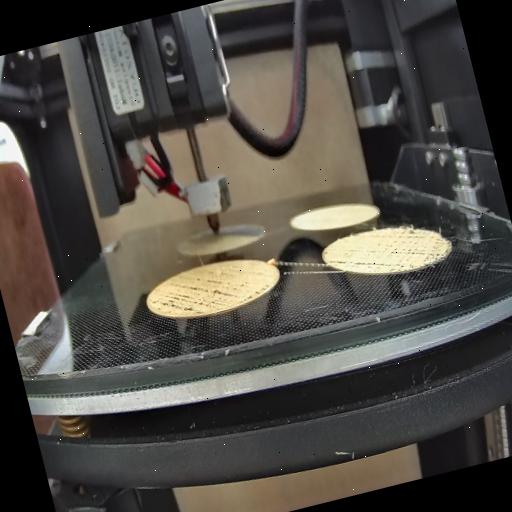under_extrusion: (143, 258, 272, 325), (347, 215, 451, 282), (324, 247, 350, 272)
